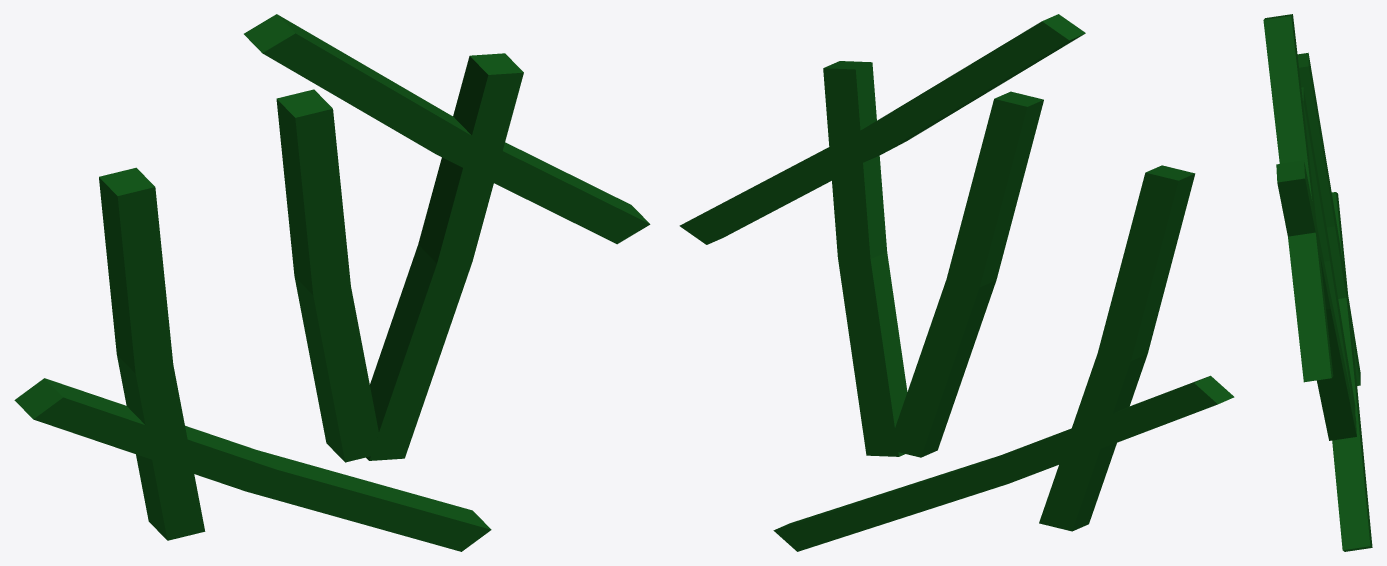
File: Greenbean.fbx
3 renders of one model, left to right at view 1: azimuth 30°, elevation 25°; view 2: azimuth 150°, elevation 25°; view 3: azimuth 270°, elevation 25°, orthographic. The views are drawn at different scales.
Visible parts, largest first — view 1: Greenbean; view 2: Greenbean; view 3: Greenbean.
Part boxes in pixels (x1,y1,x2,y2): Greenbean: (14,14,650,551); Greenbean: (679,14,1234,551); Greenbean: (1263,14,1372,551).
Size of the model in its own units: 91.1 by 87.85 by 19.04.
